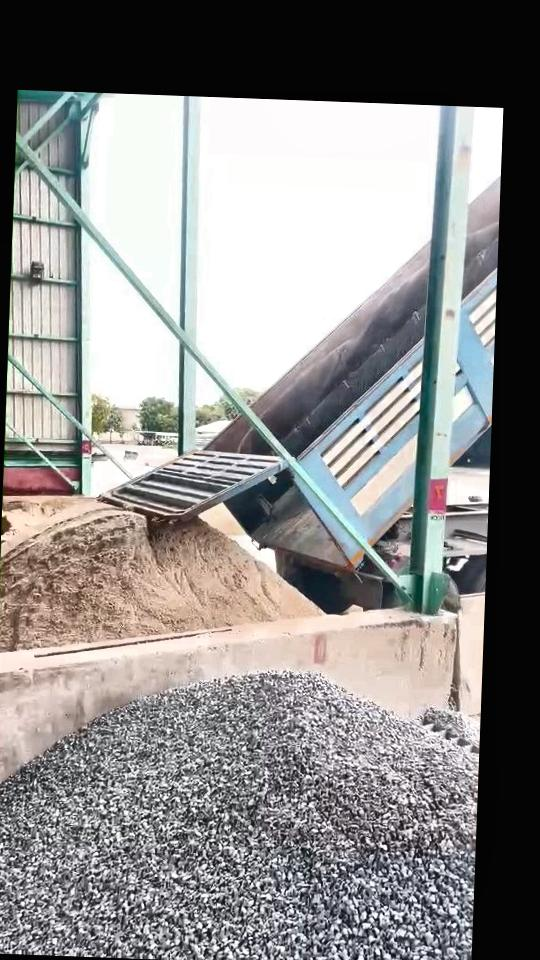gravel: (0, 673, 479, 960), (422, 707, 479, 753)
sand: (0, 501, 321, 649), (4, 495, 96, 537), (202, 504, 243, 535)
